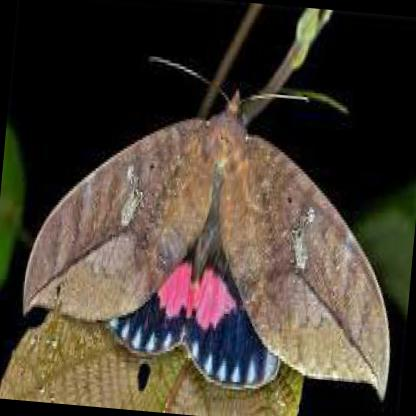fruit sucking moth: (25, 96, 390, 401)
